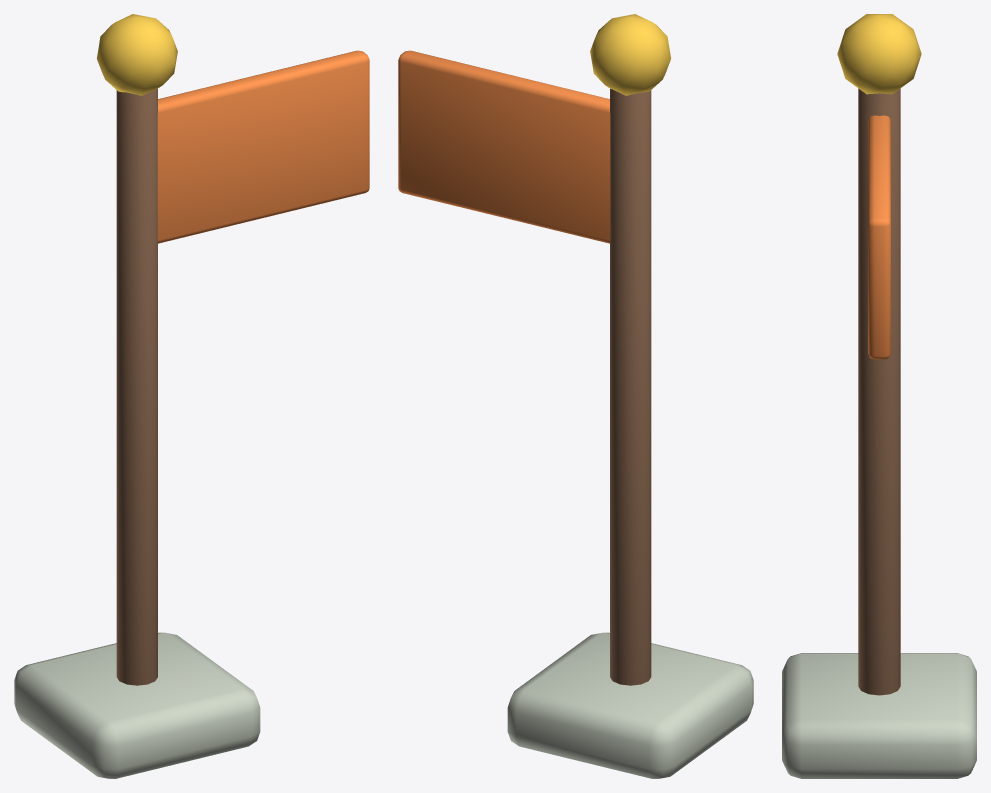
File: Checkpoint.fbx
3 views of the same model, side by side, from view 1: azimuth 30°, elevation 25°; view 2: azimuth 150°, elevation 25°; view 3: azimuth 270°, elevation 25° (orthographic).
Visible parts, largest first — view 1: Flag, Pole, Foot.004, Finial; view 2: Flag, Pole, Foot.004, Finial; view 3: Foot.004, Pole, Flag, Finial.
Part boxes in pixels (<box>): Flag: <box>157,50,369,243</box>; Pole: <box>116,88,157,685</box>; Foot.004: <box>14,632,260,778</box>; Finial: <box>96,14,177,95</box>; Flag: <box>398,50,610,243</box>; Pole: <box>610,88,651,685</box>; Foot.004: <box>507,632,753,778</box>; Finial: <box>590,14,671,95</box>; Foot.004: <box>782,653,976,778</box>; Pole: <box>858,88,900,695</box>; Flag: <box>868,115,890,359</box>; Finial: <box>837,14,921,94</box>.
Size of the model in its own units: 1.13 by 2.48 by 0.6.
